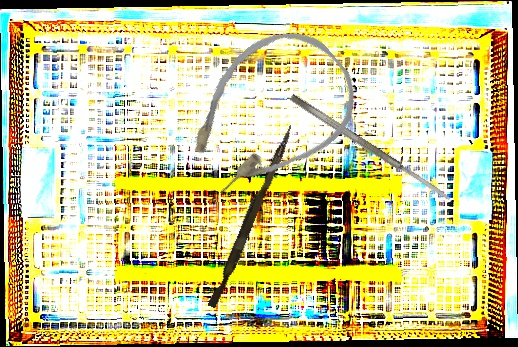Cannula: (160, 8, 376, 220)
Pusher: (207, 121, 295, 311)
Spatula Surgical: (288, 92, 453, 204)
